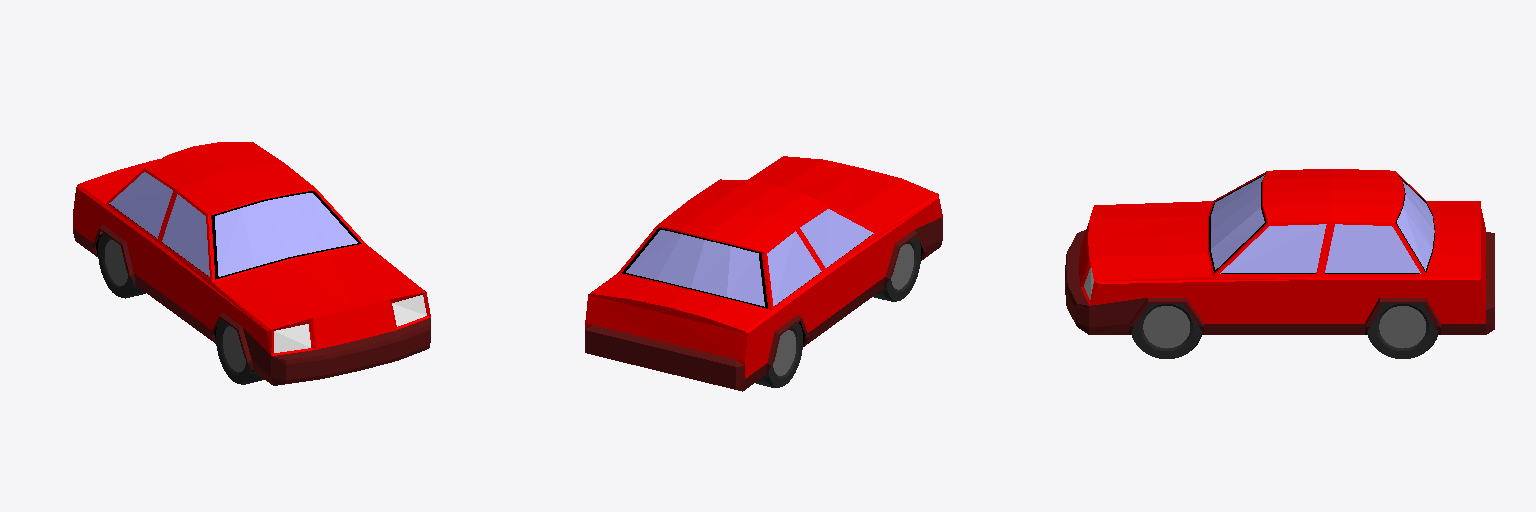
File: car.obj
3 renders of one model, left to right at view 1: azimuth 30°, elevation 25°; view 2: azimuth 150°, elevation 25°; view 3: azimuth 270°, elevation 25°, orthographic.
Bounding box in the file's own units: 2.1 × 1.59 × 4.67.